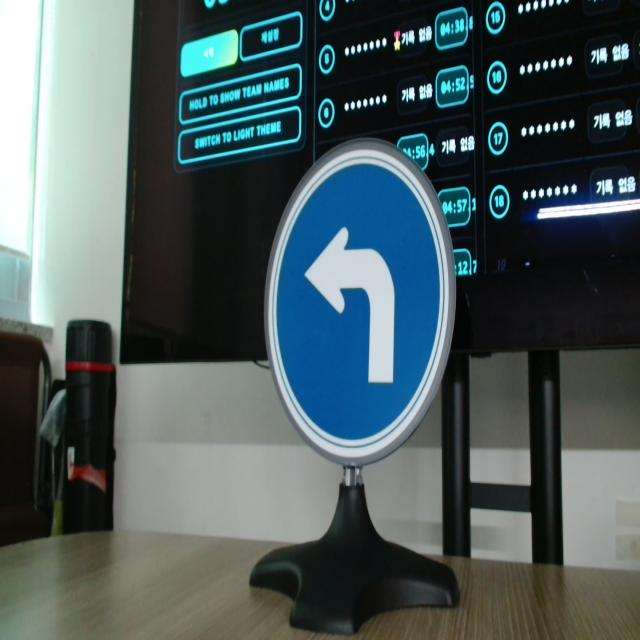left_direction: (262, 128, 468, 503)
